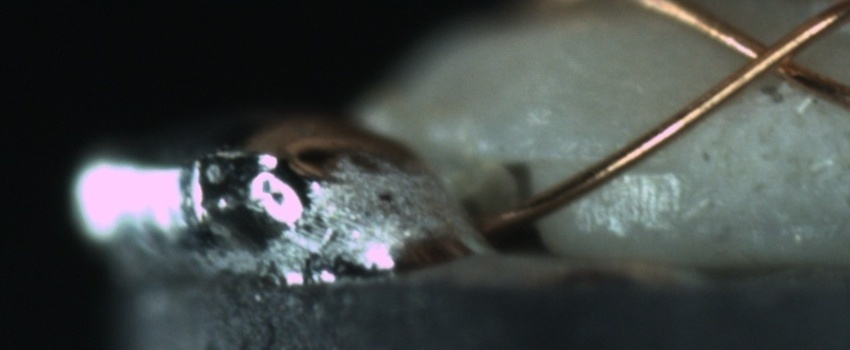CL: (720, 19, 816, 91)
DL: (545, 138, 676, 190)
